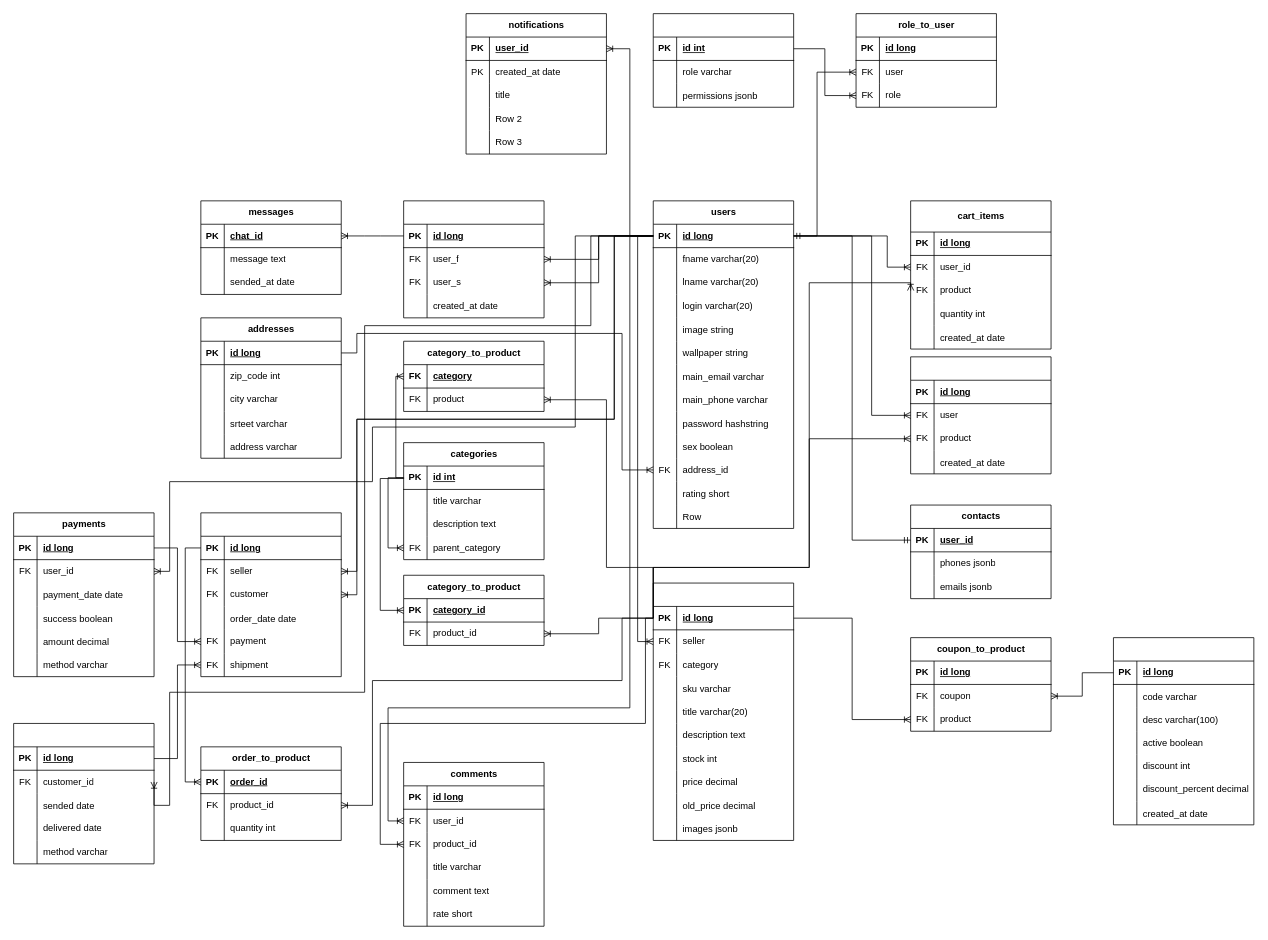
Image size: 1268x940. Some labels were removed from this diagram. Each missing label, with the box of its shape:
chats: (403, 200, 544, 318)
coupons: (1113, 637, 1254, 825)
orders: (200, 512, 341, 677)
products: (652, 582, 794, 840)
roles: (652, 13, 794, 107)
shipments: (13, 723, 154, 864)
wishlist_items: (910, 356, 1051, 474)
